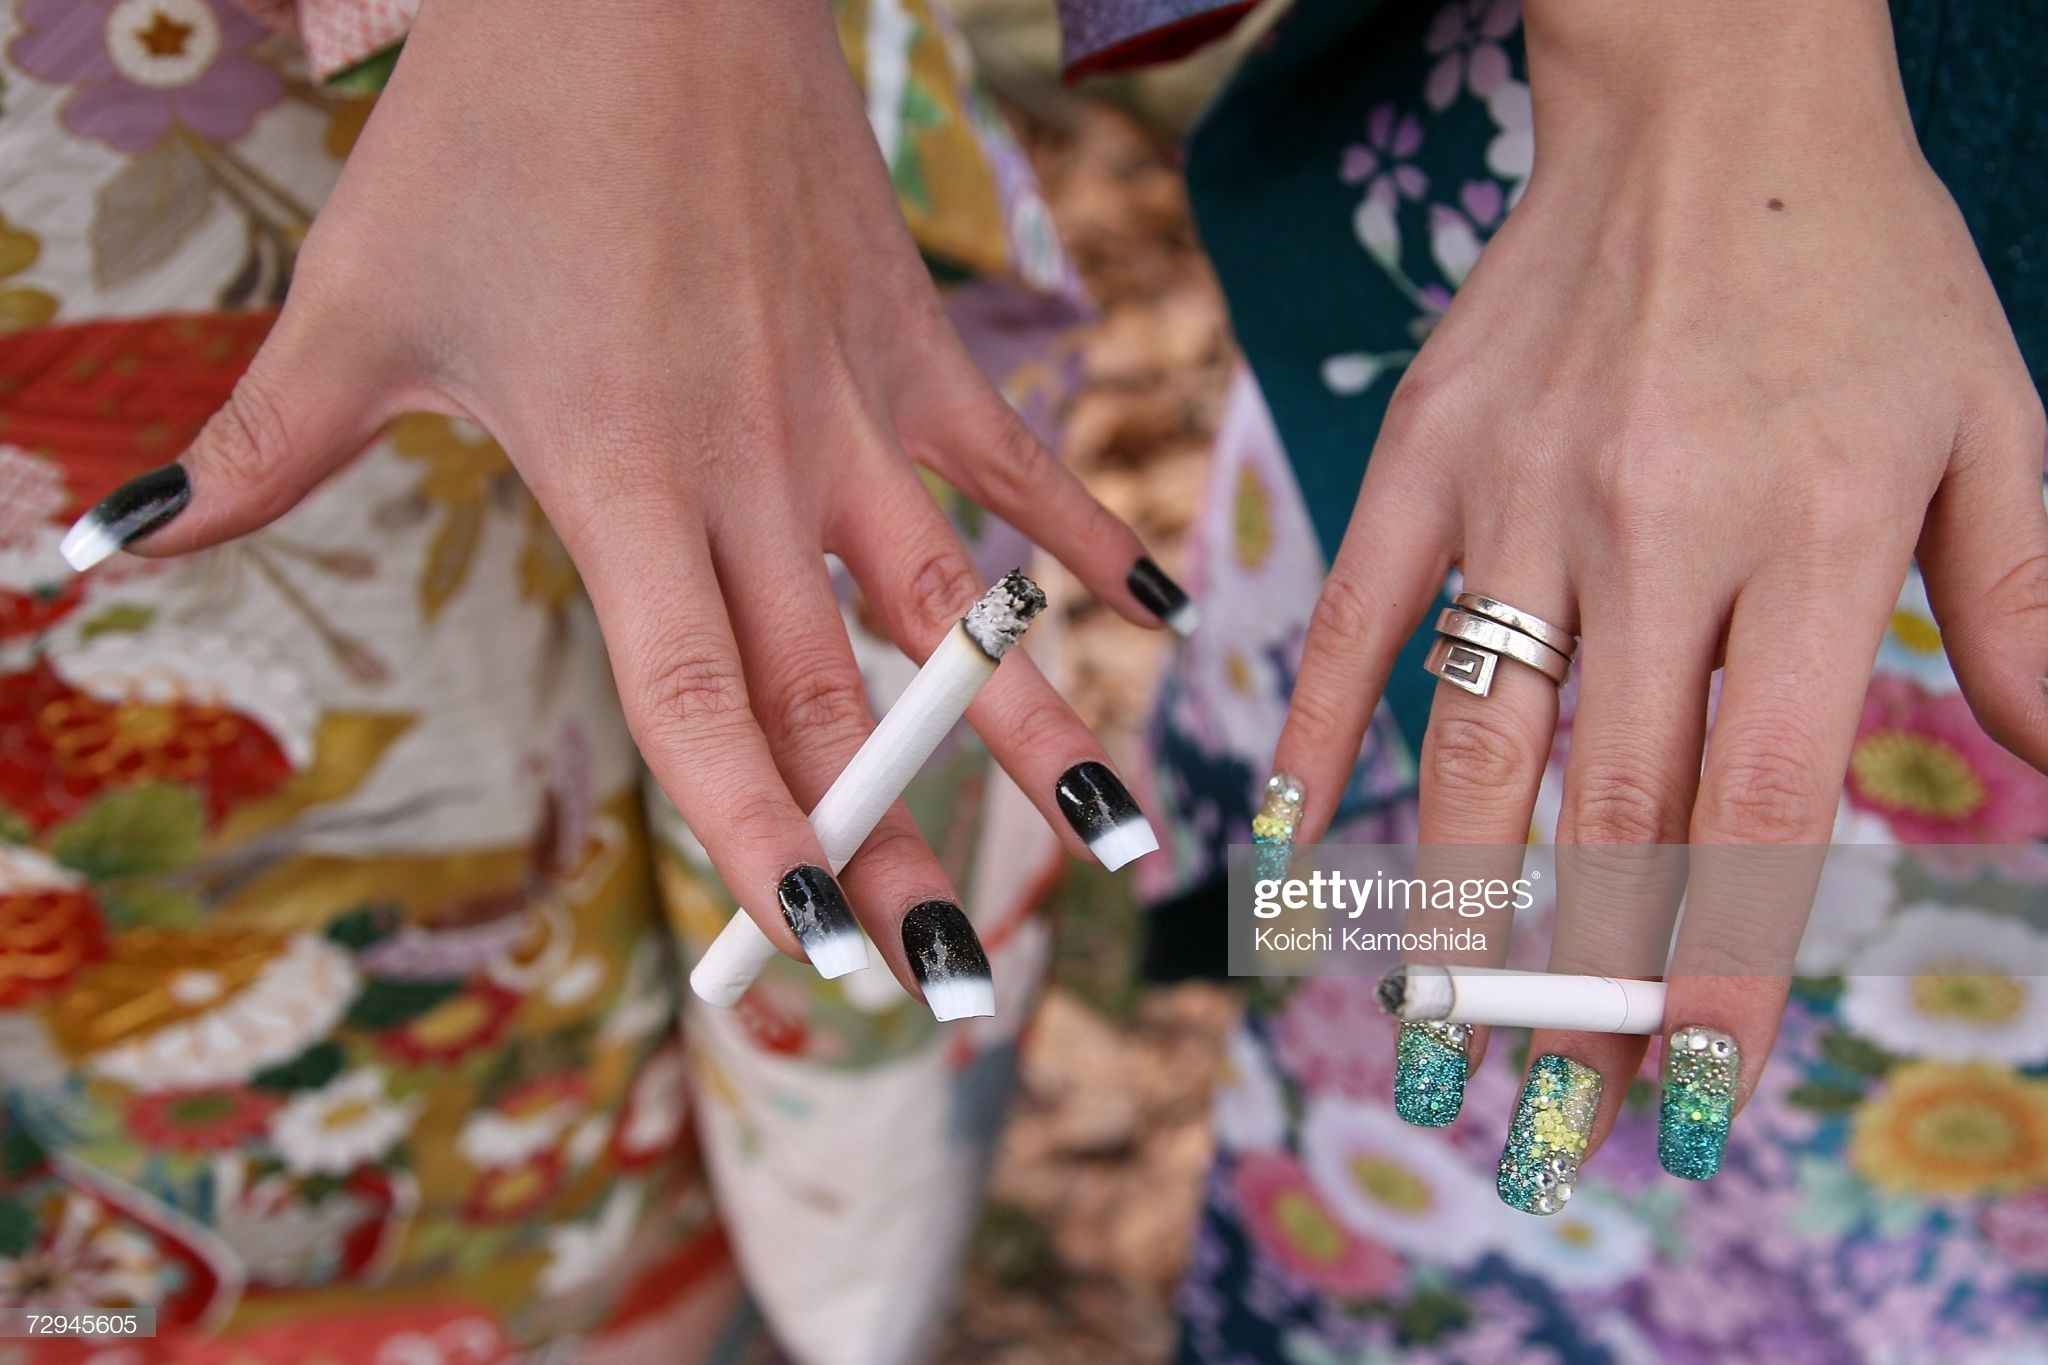sigaretta: (713, 582, 1035, 1018), (1393, 941, 1702, 1037)
